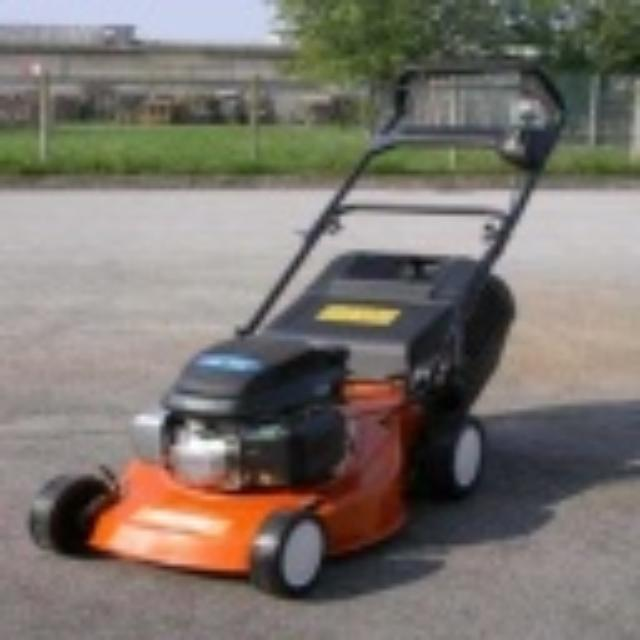Rotary-Mower: (25, 45, 565, 595)
